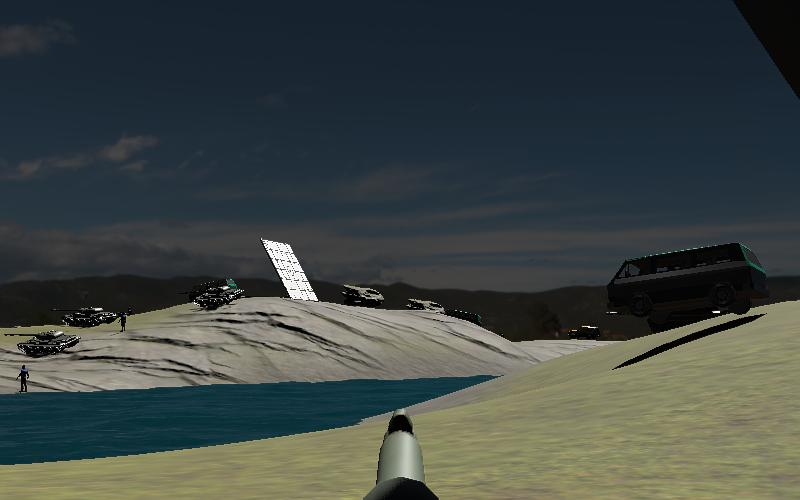Tank: (4, 328, 83, 357), (184, 283, 245, 310), (50, 305, 121, 327)
car: (605, 240, 770, 326)
